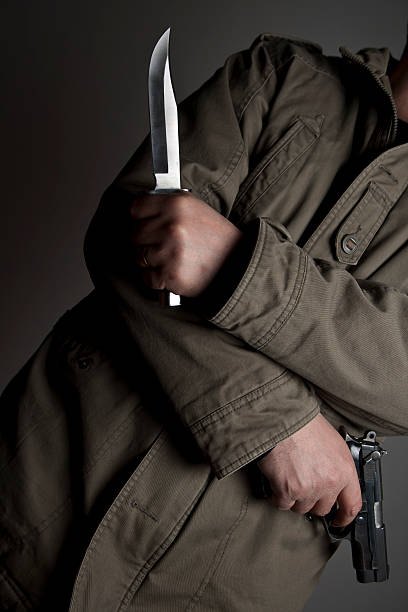gun: (329, 417, 392, 584)
knife: (147, 26, 183, 307)
